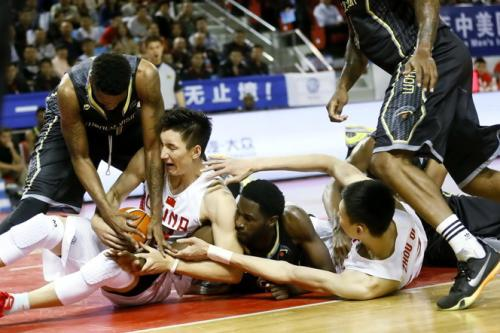10+: (6, 3, 496, 319)
down: (102, 101, 233, 268), (318, 175, 448, 316), (214, 169, 335, 277)
